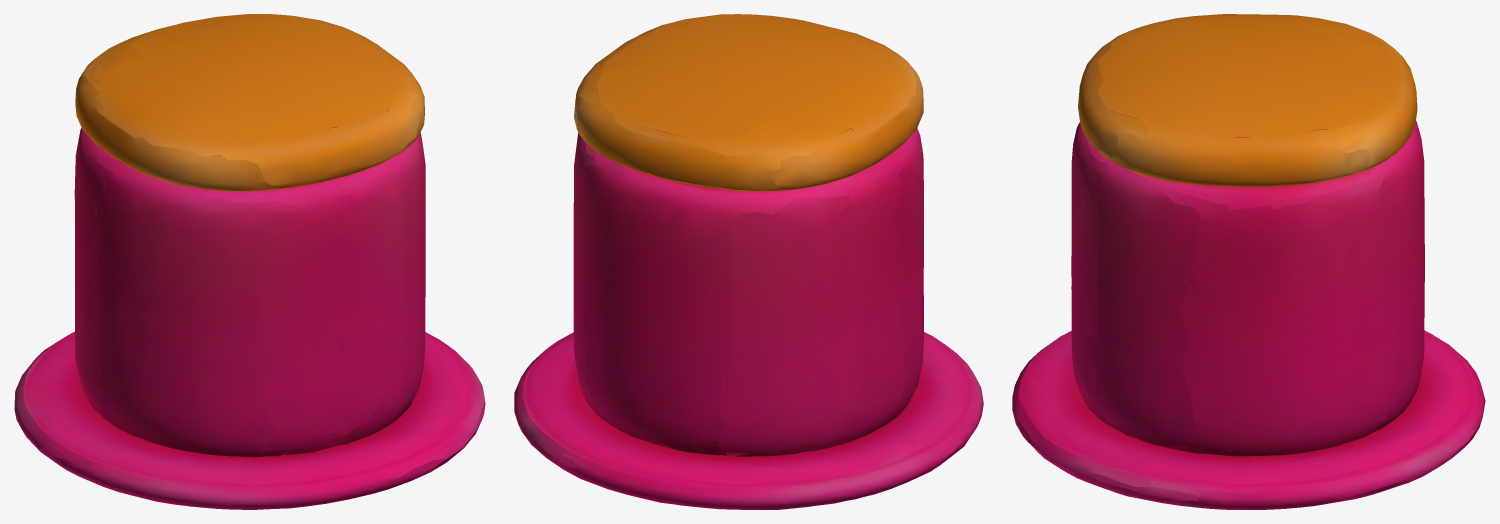
The model's file is PROP_C1_BUMPER_game.glb.
3 renders of one model, left to right at view 1: azimuth 30°, elevation 25°; view 2: azimuth 150°, elevation 25°; view 3: azimuth 270°, elevation 25°, orthographic.
Visible parts, largest first — view 1: PROP_C1_BUMPER; view 2: PROP_C1_BUMPER; view 3: PROP_C1_BUMPER.
Boxes of the visible parts, x1,y1,x2,y2 form: PROP_C1_BUMPER: (14,14,485,509); PROP_C1_BUMPER: (514,14,983,509); PROP_C1_BUMPER: (1012,14,1485,509).
Bounding box in the file's own units: 1.6 × 1.35 × 1.6.
1 material, 1 textured.
